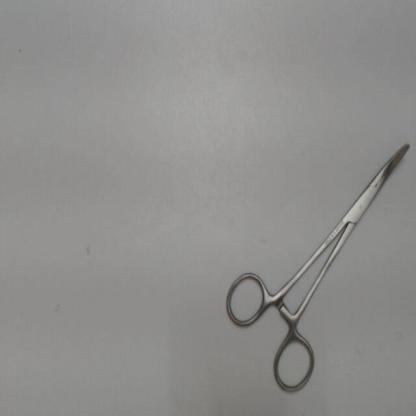Crile Artery Forceps: (219, 131, 415, 399)
